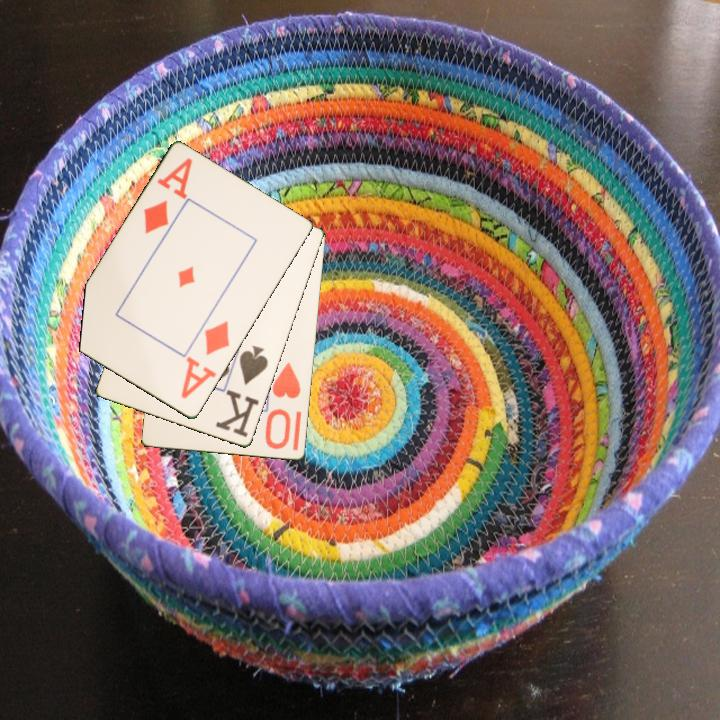10h: (264, 359, 304, 453)
Ad: (177, 317, 233, 402), (140, 154, 196, 238)
Ks: (213, 342, 271, 441)
